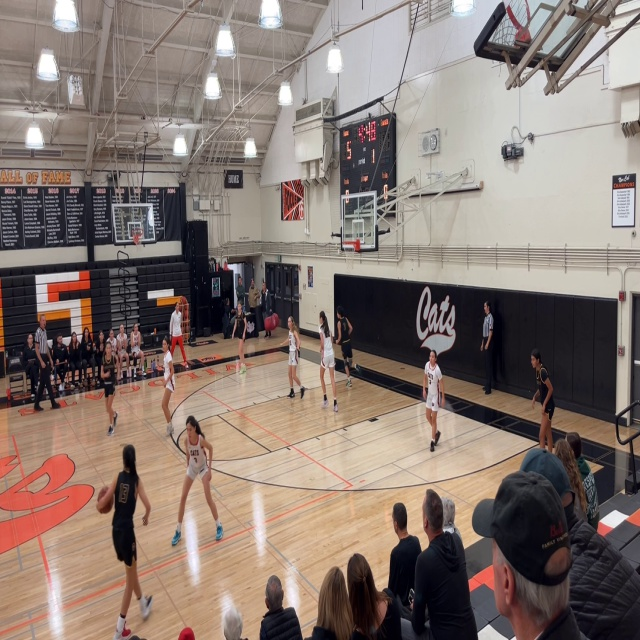Basketball: (96, 486, 113, 513)
